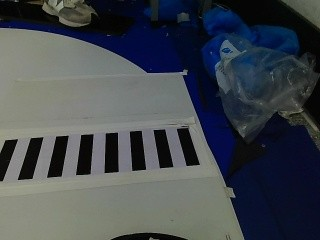crosswalk: (0, 127, 202, 173)
